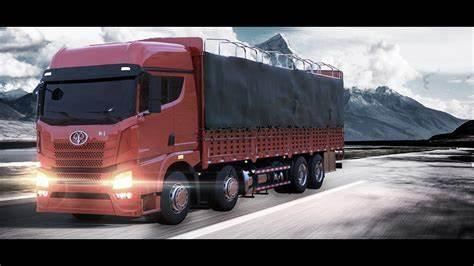truck: (28, 30, 355, 229)
